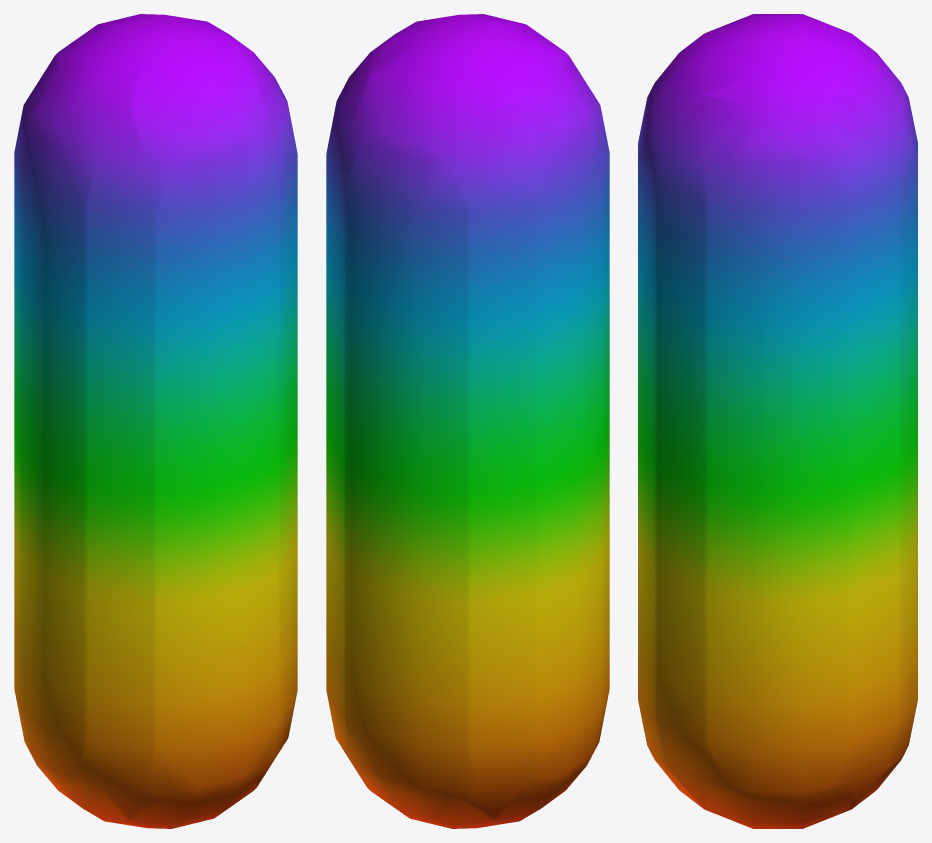
The model's file is ccc.fbx.
The picture shows the model from 3 angles, left to right: view 1: azimuth 30°, elevation 25°; view 2: azimuth 150°, elevation 25°; view 3: azimuth 270°, elevation 25°; orthographic projection.
Visible parts, largest first — view 1: Mball.001; view 2: Mball.001; view 3: Mball.001.
Part boxes in pixels (x1,y1,x2,y2): Mball.001: [14, 14, 297, 828]; Mball.001: [326, 14, 609, 828]; Mball.001: [638, 14, 917, 828].
Bounding box in the file's own units: 19380 × 60160 × 19380.
1 material, 1 textured.
